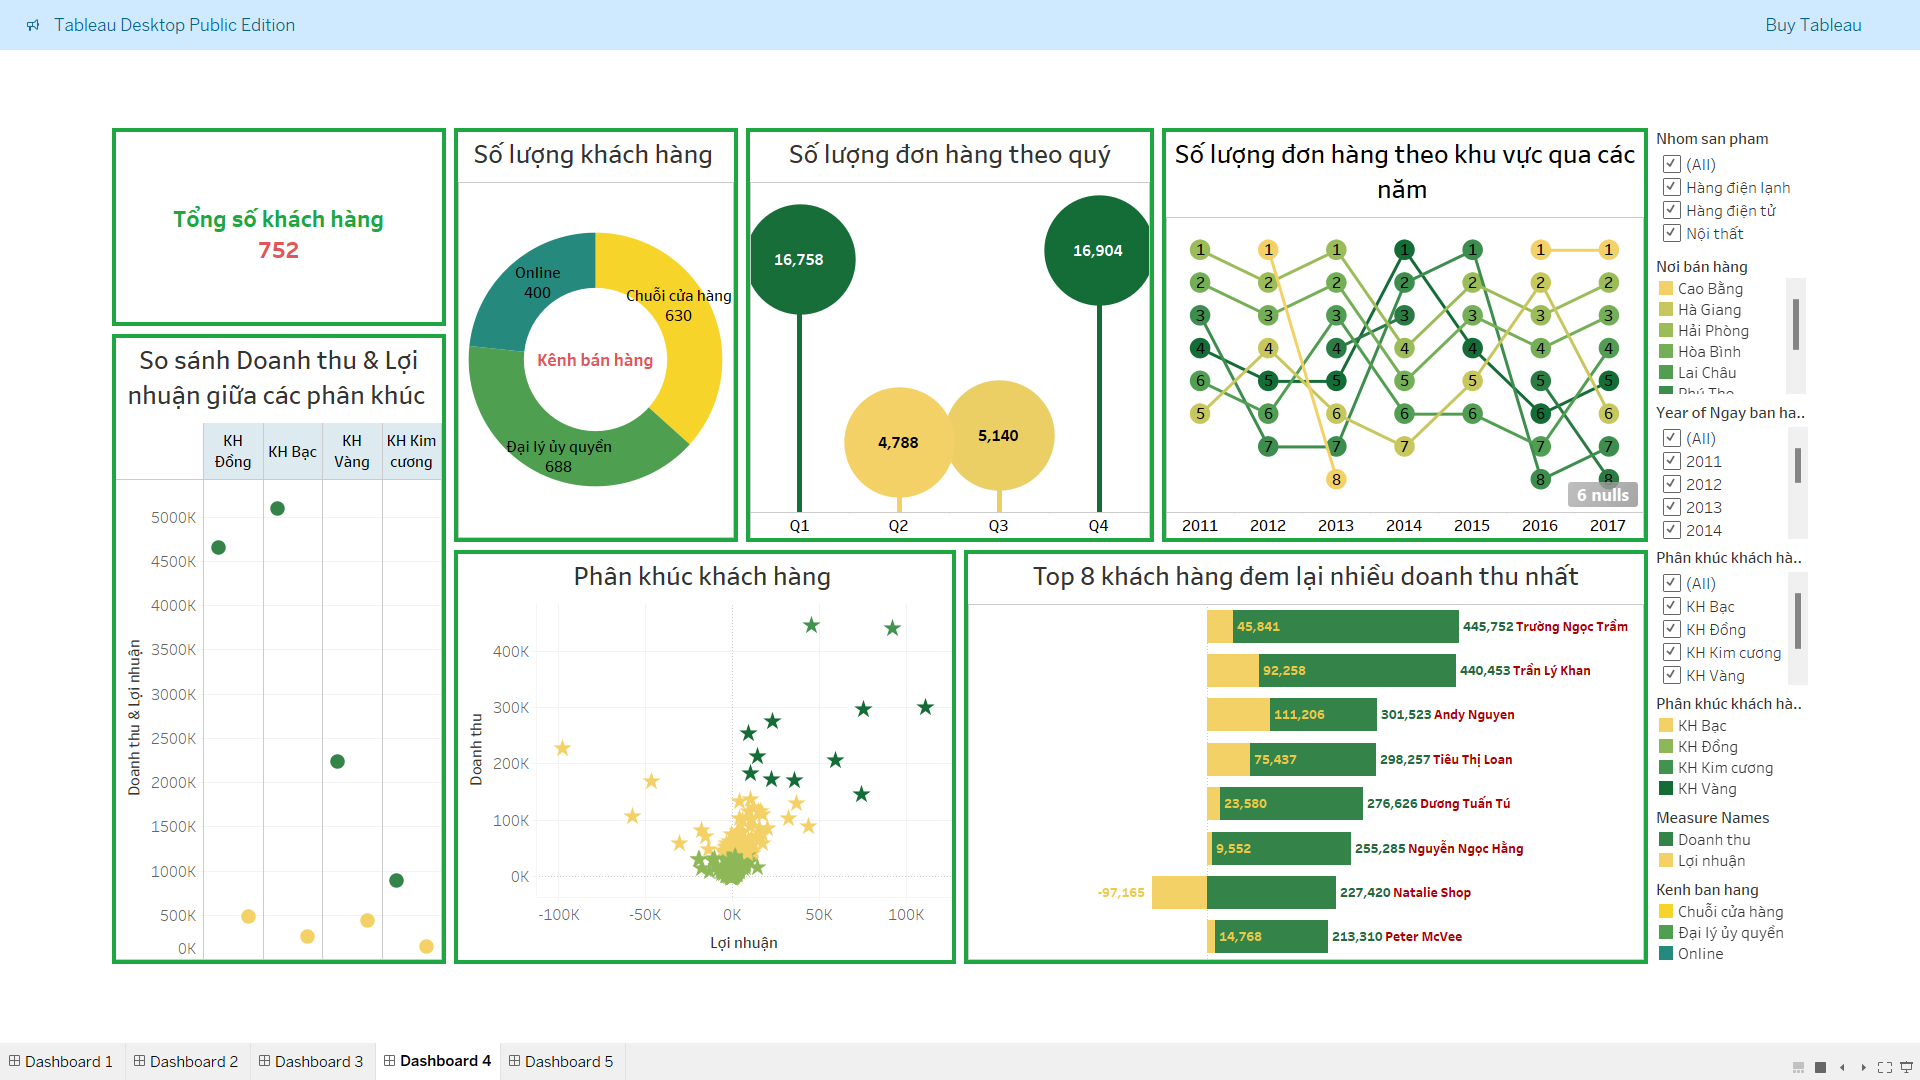

What the dashboard file says about the page in this screenshot:
{"tool":"tableau","page":{"name":"Dashboard 4","canvas":[1000,1000],"units":"permille","ordinal":3},"visuals":[{"type":"worksheet","title":"Tổng số khách hàng","mark":"Automatic","box":[4.7,10.2,198.8,238.9]},{"type":"worksheet","title":"DB 4: Số lượng khách hàng các kênh ","mark":"Pie","rows":["Calculation_913386362010472451","Calculation_913386362010472451"],"box":[203.5,10.2,169.8,489.8]},{"type":"worksheet","title":"DB4: Số lượng đơn hàng theo các quỹ","mark":"Circle","rows":["So luong","So luong"],"cols":["Ngay ban hang"],"box":[373.3,10.2,241.9,489.8]},{"type":"worksheet","title":"DB 4: Lượng khách hàng theo khu vực","mark":"Line","cols":["Ngay ban hang"],"box":[615.1,10.2,287.2,489.8]},{"type":"filter","title":"DB 4: Lượng khách hàng theo khu vực","param":"[federated.1sq9p5i18wjn6t1e2qz7n0ca84ti].[none:Nhom san pham:nk]","box":[902.3,10.2,93,163.9]},{"type":"legend","title":"DB 4: Lượng khách hàng theo khu vực","param":"[federated.1sq9p5i18wjn6t1e2qz7n0ca84ti].[none:Noi ban hang:nk]","box":[902.3,174.1,93,253.5]},{"type":"worksheet","title":"DB 4: DT và LN theo phân khúc khách hàng","mark":"Shape","box":[4.7,249.2,198.8,740.6]},{"type":"filter","title":"DB4: Số lượng đơn hàng theo các quỹ","param":"[federated.1sq9p5i18wjn6t1e2qz7n0ca84ti].[yr:Ngay ban hang:ok]","box":[902.3,427.7,93,276.6]},{"type":"worksheet","title":"DB4: Phân khúc khách hàng","mark":"Automatic","rows":["Doanh thu"],"cols":["Loi nhuan"],"box":[203.5,500,296.5,489.8]},{"type":"worksheet","title":"DB4: Top khách hàng đem lại nhiều doanh thu nhất","mark":"Bar","rows":["Ten khach hang"],"cols":["Doanh thu","Loi nhuan"],"box":[500,500,402.3,489.8]},{"type":"filter","title":"DB4: Phân khúc khách hàng","param":"[federated.1sq9p5i18wjn6t1e2qz7n0ca84ti].[Ten khach hang (clusters)]","box":[902.3,704.2,93,193.3]},{"type":"legend","title":"DB4: Phân khúc khách hàng","param":"[federated.1sq9p5i18wjn6t1e2qz7n0ca84ti].[Ten khach hang (clusters)]","box":[902.3,897.6,93,30.7]},{"type":"legend","title":"DB4: Top khách hàng đem lại nhiều doanh thu nhất","param":"[federated.1sq9p5i18wjn6t1e2qz7n0ca84ti].[:Measure Names]","box":[902.3,928.3,93,30.7]},{"type":"legend","title":"DB 4: Số lượng khách hàng các kênh ","param":"[federated.1sq9p5i18wjn6t1e2qz7n0ca84ti].[none:Kenh ban hang:nk]","box":[902.3,959,93,30.7]}]}

Visuals, with their boxes on the dashboard's canvas, which has no fixed pixel size, in thousandths of its width and height (x1, y1, x2, y2). These are canvas units, not pixel positions in the 1920x1080 screenshot, which may show the page scaled, cropped or inside an application window:
"Tổng số khách hàng" worksheet: left=5, top=10, right=204, bottom=249
"DB 4: Số lượng khách hàng các kênh " worksheet (Pie marks): left=204, top=10, right=373, bottom=500
"DB4: Số lượng đơn hàng theo các quỹ" worksheet (Circle marks): left=373, top=10, right=615, bottom=500
"DB 4: Lượng khách hàng theo khu vực" worksheet (Line marks): left=615, top=10, right=902, bottom=500
"DB 4: Lượng khách hàng theo khu vực" filter: left=902, top=10, right=995, bottom=174
"DB 4: Lượng khách hàng theo khu vực" legend: left=902, top=174, right=995, bottom=428
"DB 4: DT và LN theo phân khúc khách hàng" worksheet (Shape marks): left=5, top=249, right=204, bottom=990
"DB4: Số lượng đơn hàng theo các quỹ" filter: left=902, top=428, right=995, bottom=704
"DB4: Phân khúc khách hàng" worksheet: left=204, top=500, right=500, bottom=990
"DB4: Top khách hàng đem lại nhiều doanh thu nhất" worksheet (Bar marks): left=500, top=500, right=902, bottom=990
"DB4: Phân khúc khách hàng" filter: left=902, top=704, right=995, bottom=898
"DB4: Phân khúc khách hàng" legend: left=902, top=898, right=995, bottom=928
"DB4: Top khách hàng đem lại nhiều doanh thu nhất" legend: left=902, top=928, right=995, bottom=959
"DB 4: Số lượng khách hàng các kênh " legend: left=902, top=959, right=995, bottom=990
